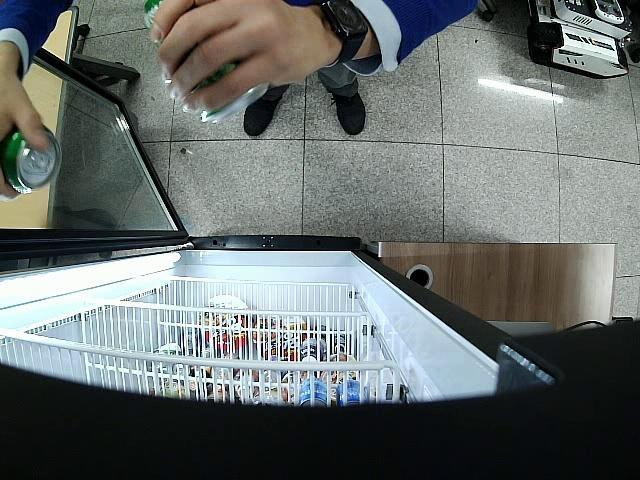12_chilsungCider: (142, 0, 268, 123), (4, 123, 62, 195)
